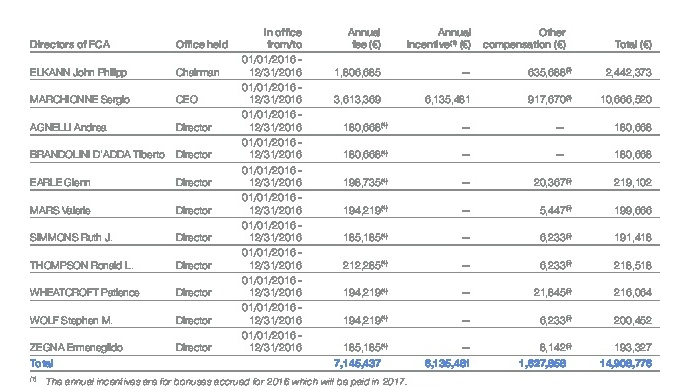table: (0, 0, 679, 387)
